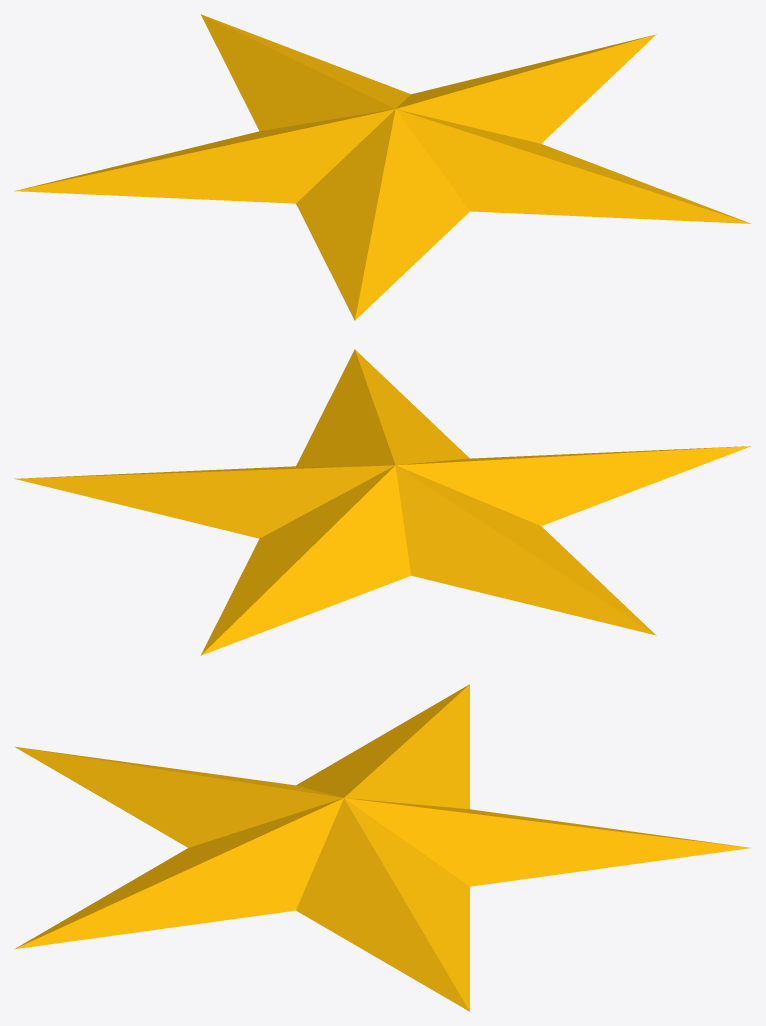
File: star.glb
The picture shows the model from 3 angles, top to bottom: view 1: azimuth 30°, elevation 25°; view 2: azimuth 150°, elevation 25°; view 3: azimuth 270°, elevation 25°; orthographic projection. The views are drawn at different scales.
Parts seen in each view (by area): view 1: Mesh; view 2: Mesh; view 3: Mesh.
Part boxes in pixels (x1,y1,x2,y2): Mesh: [14, 14, 751, 320]; Mesh: [14, 349, 751, 655]; Mesh: [14, 684, 750, 1011].
Size of the model in its own units: 4.98 by 0.708 by 4.74.
